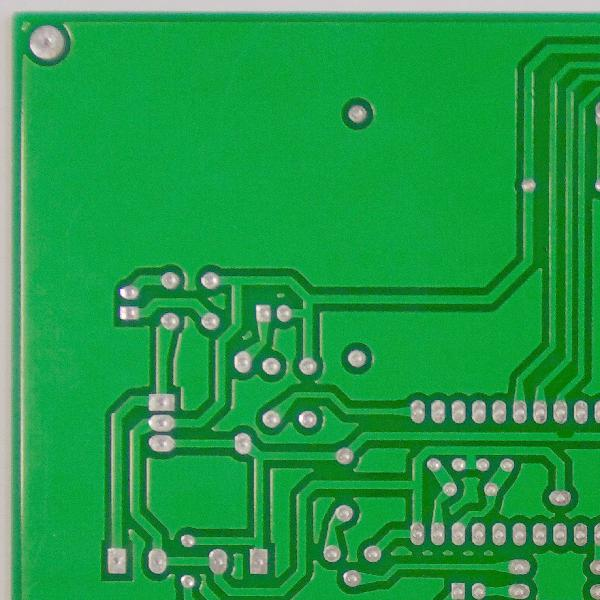mouse_bite: (553, 426, 580, 444)
